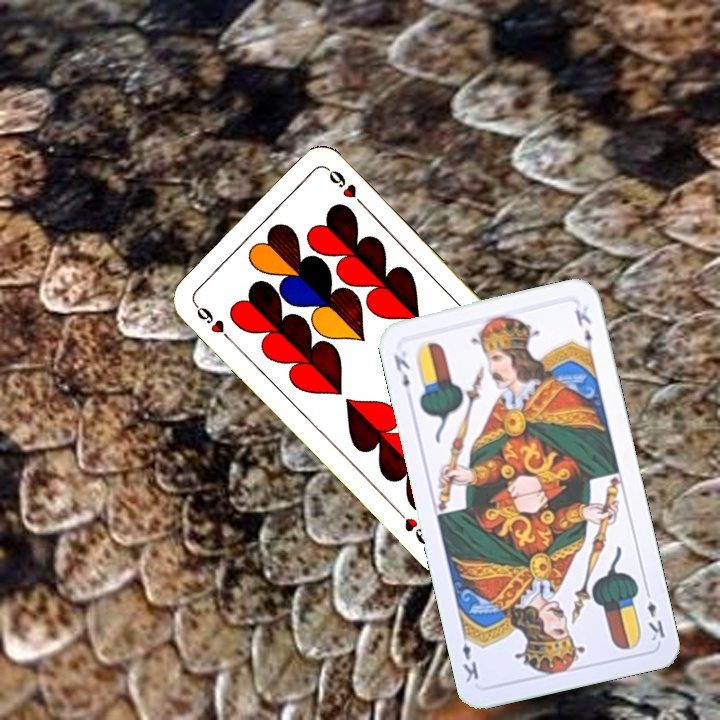EK: (641, 584, 668, 644), (389, 350, 413, 390)
H9: (189, 297, 235, 344)
